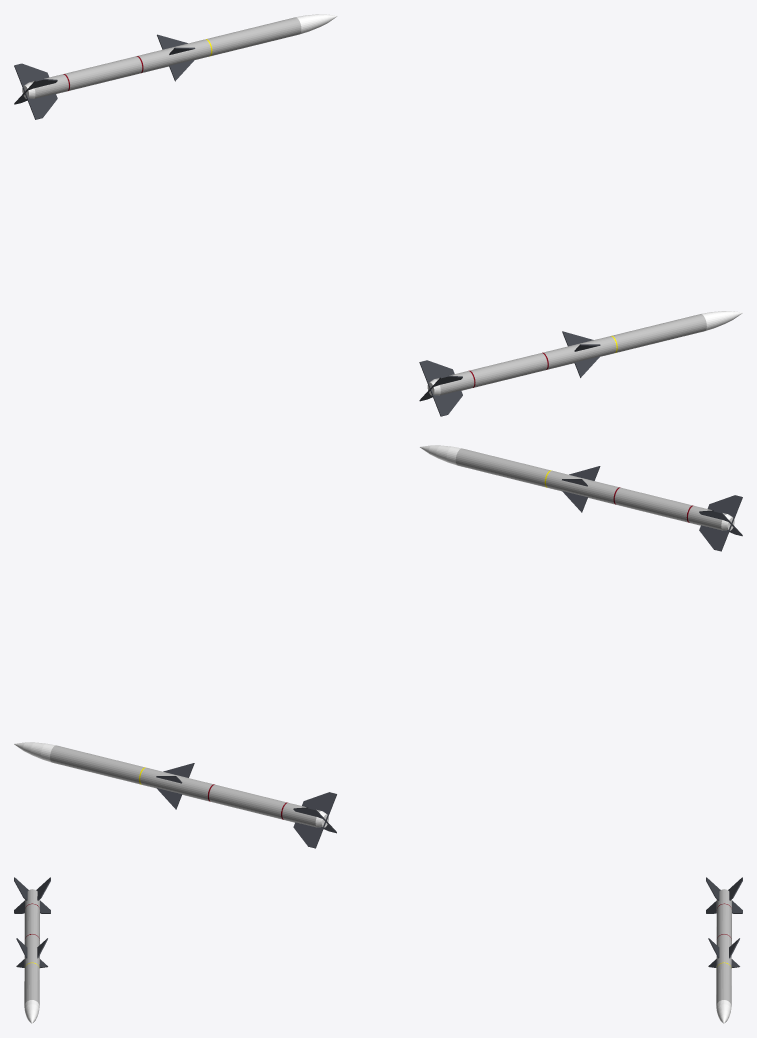
File: aim120fa18e29.glb
The picture shows the model from 3 angles, top to bottom: view 1: azimuth 30°, elevation 25°; view 2: azimuth 150°, elevation 25°; view 3: azimuth 270°, elevation 25°; orthographic projection. The views are drawn at different scales.
Visible parts, largest first — view 1: 円柱.001, 円柱.002; view 2: 円柱.001, 円柱.002; view 3: 円柱.001, 円柱.002.
Boxes of the visible parts, box(x1,y1,x2,y2) form: 円柱.001: box(419, 311, 742, 416); 円柱.002: box(14, 14, 337, 119); 円柱.001: box(420, 445, 742, 551); 円柱.002: box(14, 742, 336, 848); 円柱.001: box(14, 877, 50, 1023); 円柱.002: box(706, 877, 742, 1023).
Bounding box in the file's own units: 4.39 × 0.5295 × 10.39.
4 materials, 4 textured.
